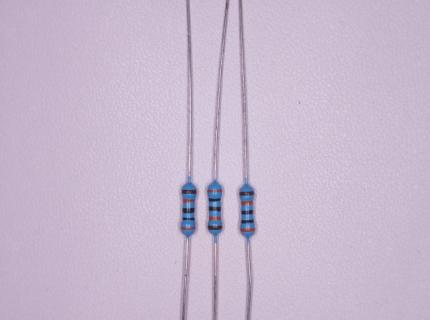Black band: (182, 207, 195, 214), (209, 206, 221, 212), (241, 209, 253, 215), (241, 219, 254, 224), (182, 217, 195, 221), (208, 198, 220, 202)
Brown band: (239, 191, 255, 196), (181, 189, 196, 194), (208, 225, 223, 230)
Orange band: (181, 226, 196, 231), (241, 200, 254, 205), (207, 189, 223, 193), (240, 228, 255, 232), (209, 216, 221, 221), (183, 199, 195, 203)
